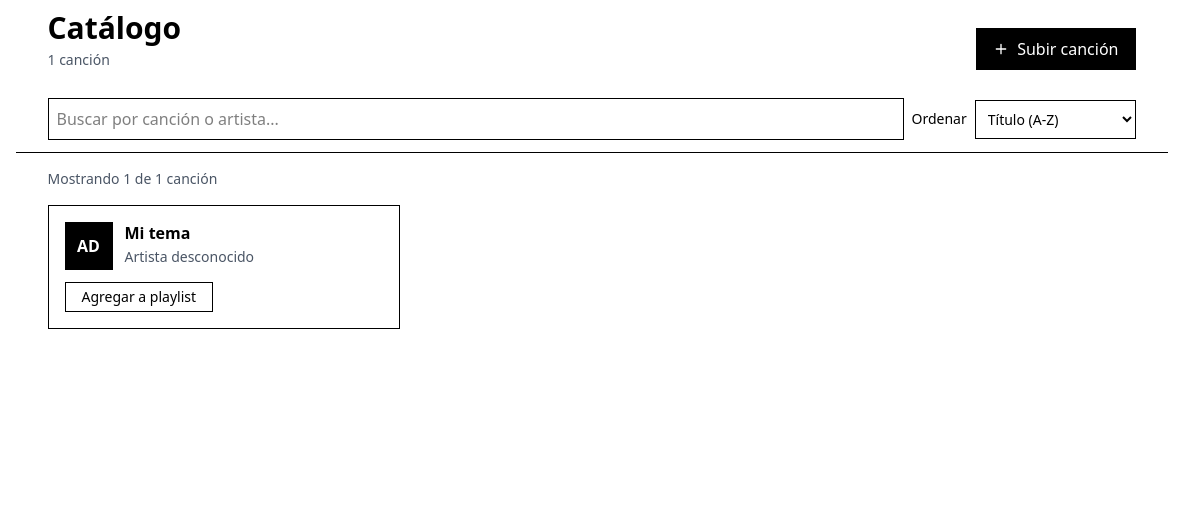
Test: desde el Catálogo agrega con un solo clic en la playlist
What coordinates should you click on to do the following:
click the button "Agregar a playlist"
I would click on:
 (139, 297)
Its box is [64, 282, 213, 312].
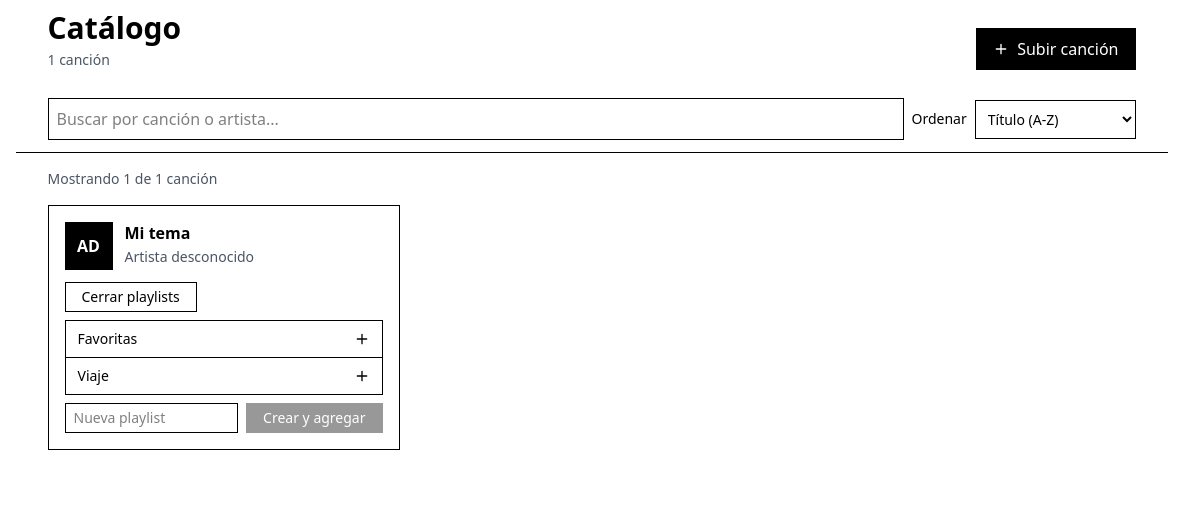
What coordinates should you click on to do the following:
click the button with aria-label "Agregar a Viaje"
I would click on:
 (93, 376)
Its box is [66, 358, 382, 394].
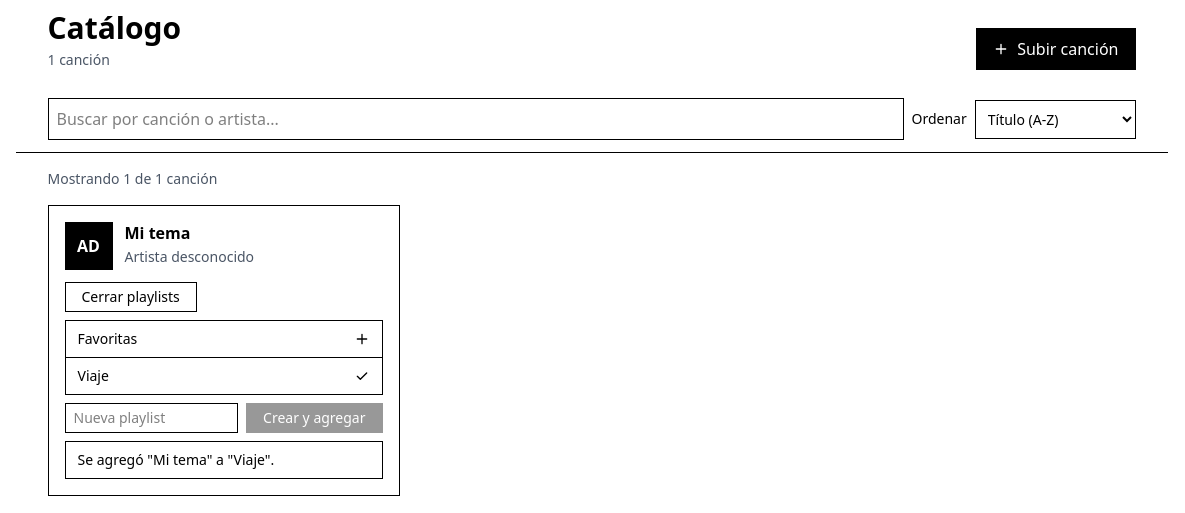
Check: the button with aria-label "Agregar a Favoritas" is enabled, box [66, 321, 382, 357]
Check: the message shows "a \"Viaje\"", box [78, 450, 274, 469]
Check: the button with aria-label "Viaje (ya está)" is disabled, box [66, 358, 382, 394]
